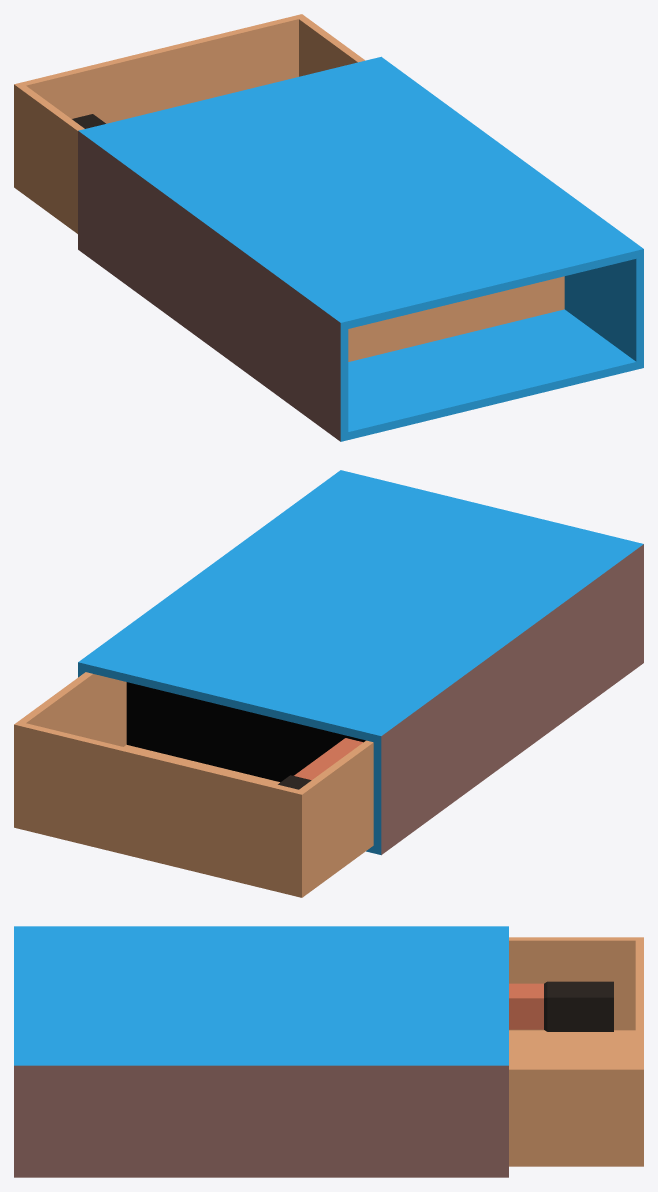
The model's file is MatchBox.fbx.
3 views of the same model, one above another, from view 1: azimuth 30°, elevation 25°; view 2: azimuth 150°, elevation 25°; view 3: azimuth 270°, elevation 25° (orthographic). The views are drawn at different scales.
Parts seen in each view (by area): view 1: box, container; view 2: box, container, match; view 3: box, container, match.
Boxes of the visible parts, <box> form: box: <box>78,56,643,441</box>; container: <box>14,14,564,361</box>; box: <box>78,470,643,855</box>; container: <box>14,672,373,897</box>; match: <box>278,738,362,789</box>; box: <box>14,926,508,1177</box>; container: <box>509,937,643,1166</box>; match: <box>509,981,613,1031</box>.
Bounding box in the file's own units: 4 × 1.5 × 7.64.
1 material, 1 textured.
